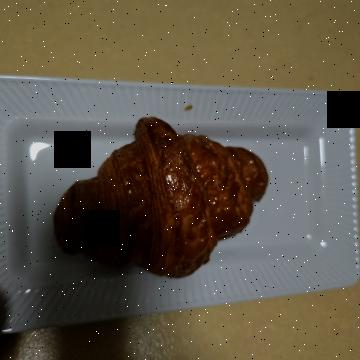croissant: (101, 77, 282, 307)
